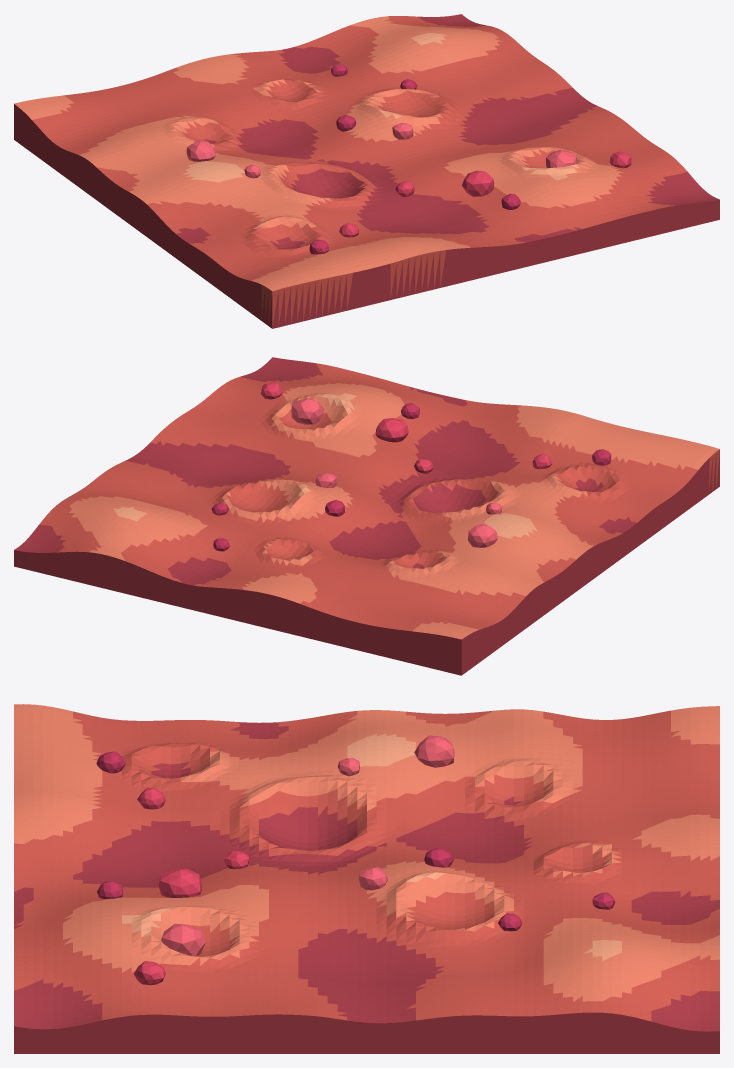
The model's file is Mars.blend.glb.
The picture shows the model from 3 angles, top to bottom: view 1: azimuth 30°, elevation 25°; view 2: azimuth 150°, elevation 25°; view 3: azimuth 270°, elevation 25°; orthographic projection. The views are drawn at different scales.
Visible parts, largest first — view 1: Terrain, Rock_07, Rock_02; view 2: Terrain, Rock_05, Rock_07, Rock_02; view 3: Terrain, Rock_07, Rock_05, Rock_02, Rock_04, Rock_08.
Boxes of the visible parts, box(x1,y1,x2,y2) form: Terrain: box(14, 14, 719, 328); Rock_07: box(462, 170, 494, 196); Rock_02: box(186, 140, 216, 161); Terrain: box(14, 357, 719, 675); Rock_05: box(291, 398, 323, 424); Rock_07: box(375, 418, 408, 442); Rock_02: box(467, 524, 497, 547); Terrain: box(14, 704, 719, 1053); Rock_07: box(159, 868, 201, 897); Rock_05: box(161, 923, 205, 955); Rock_02: box(414, 735, 454, 767); Rock_04: box(134, 960, 165, 985); Rock_08: box(359, 867, 387, 890).
Bounding box in the file's own units: 144 × 16.5 × 144.
